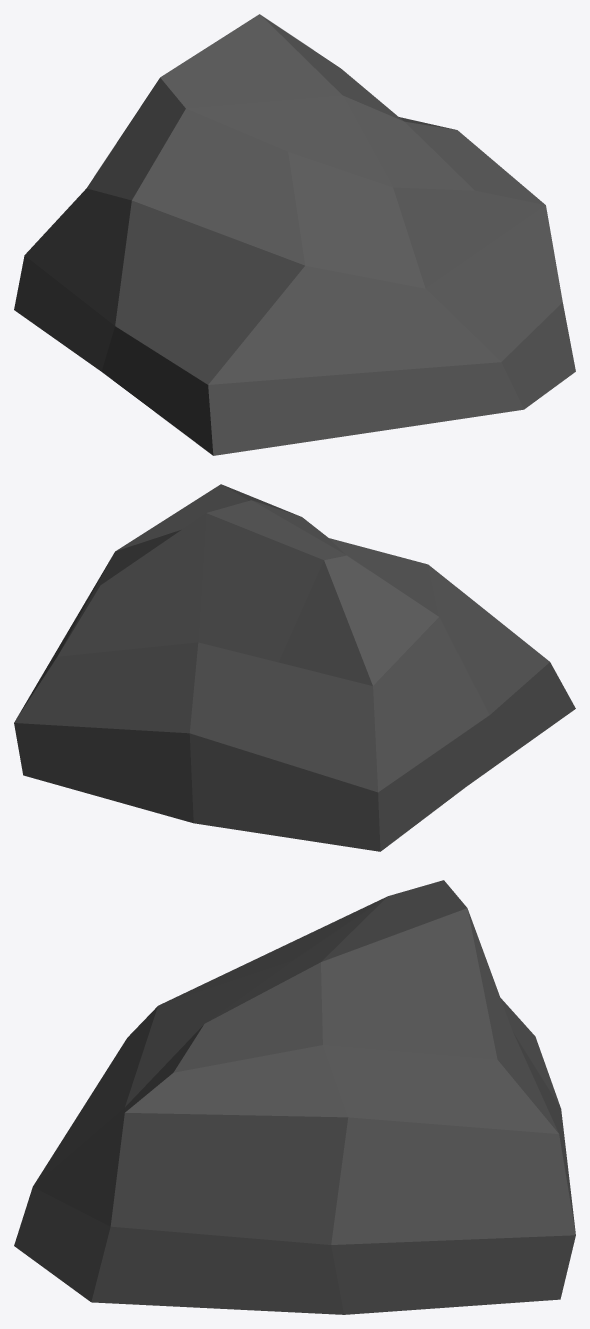
File: stone_4.fbx
3 renders of one model, top to bottom at view 1: azimuth 30°, elevation 25°; view 2: azimuth 150°, elevation 25°; view 3: azimuth 270°, elevation 25°, orthographic. The views are drawn at different scales.
Visible parts, largest first — view 1: stone_4; view 2: stone_4; view 3: stone_4.
Part boxes in pixels (bbox=[...]): stone_4: bbox=[14, 14, 575, 455]; stone_4: bbox=[14, 484, 575, 851]; stone_4: bbox=[14, 880, 575, 1314].
Size of the model in its own units: 59.29 by 38.85 by 62.95.
